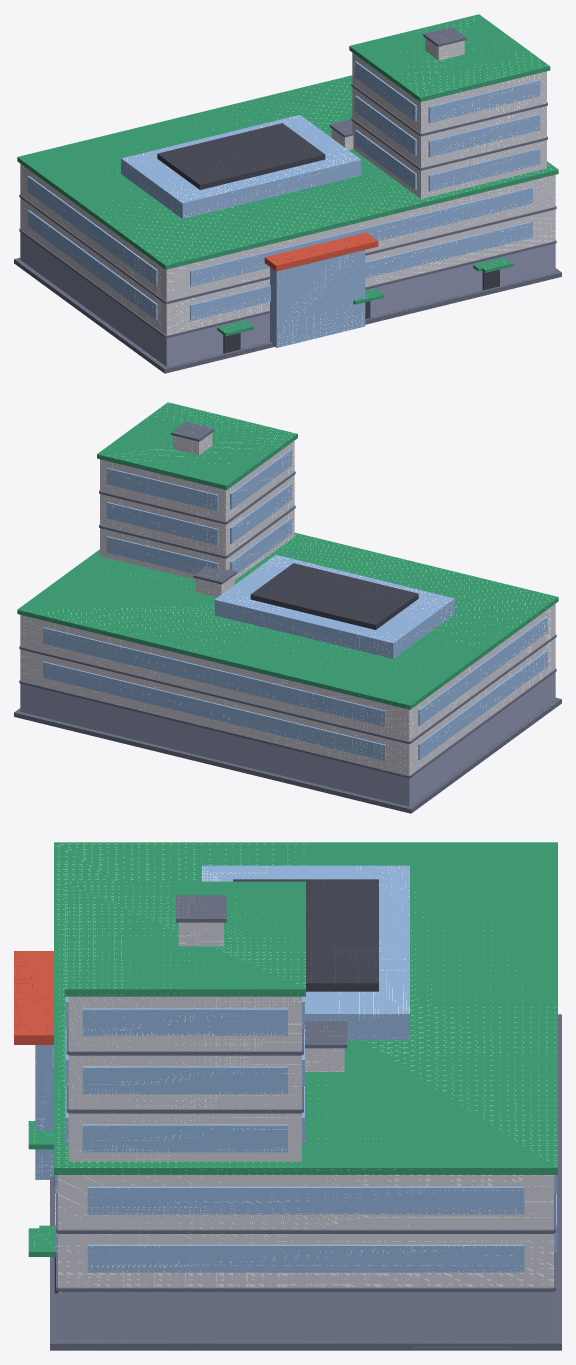
Rendered from mall-3x2-l2.glb.
3 renders of one model, top to bottom at view 1: azimuth 30°, elevation 25°; view 2: azimuth 150°, elevation 25°; view 3: azimuth 270°, elevation 25°, orthographic. The views are drawn at different scales.
Parts seen in each view (by area): view 1: mall-3x2-l2; view 2: mall-3x2-l2; view 3: mall-3x2-l2.
Part boxes in pixels (x1,y1,x2,y2): mall-3x2-l2: (14,14,561,373); mall-3x2-l2: (14,402,561,813); mall-3x2-l2: (14,842,561,1350).
Size of the model in its own units: 5.84 by 3.17 by 4.11.
Materials: 1 (1 with a texture image).
